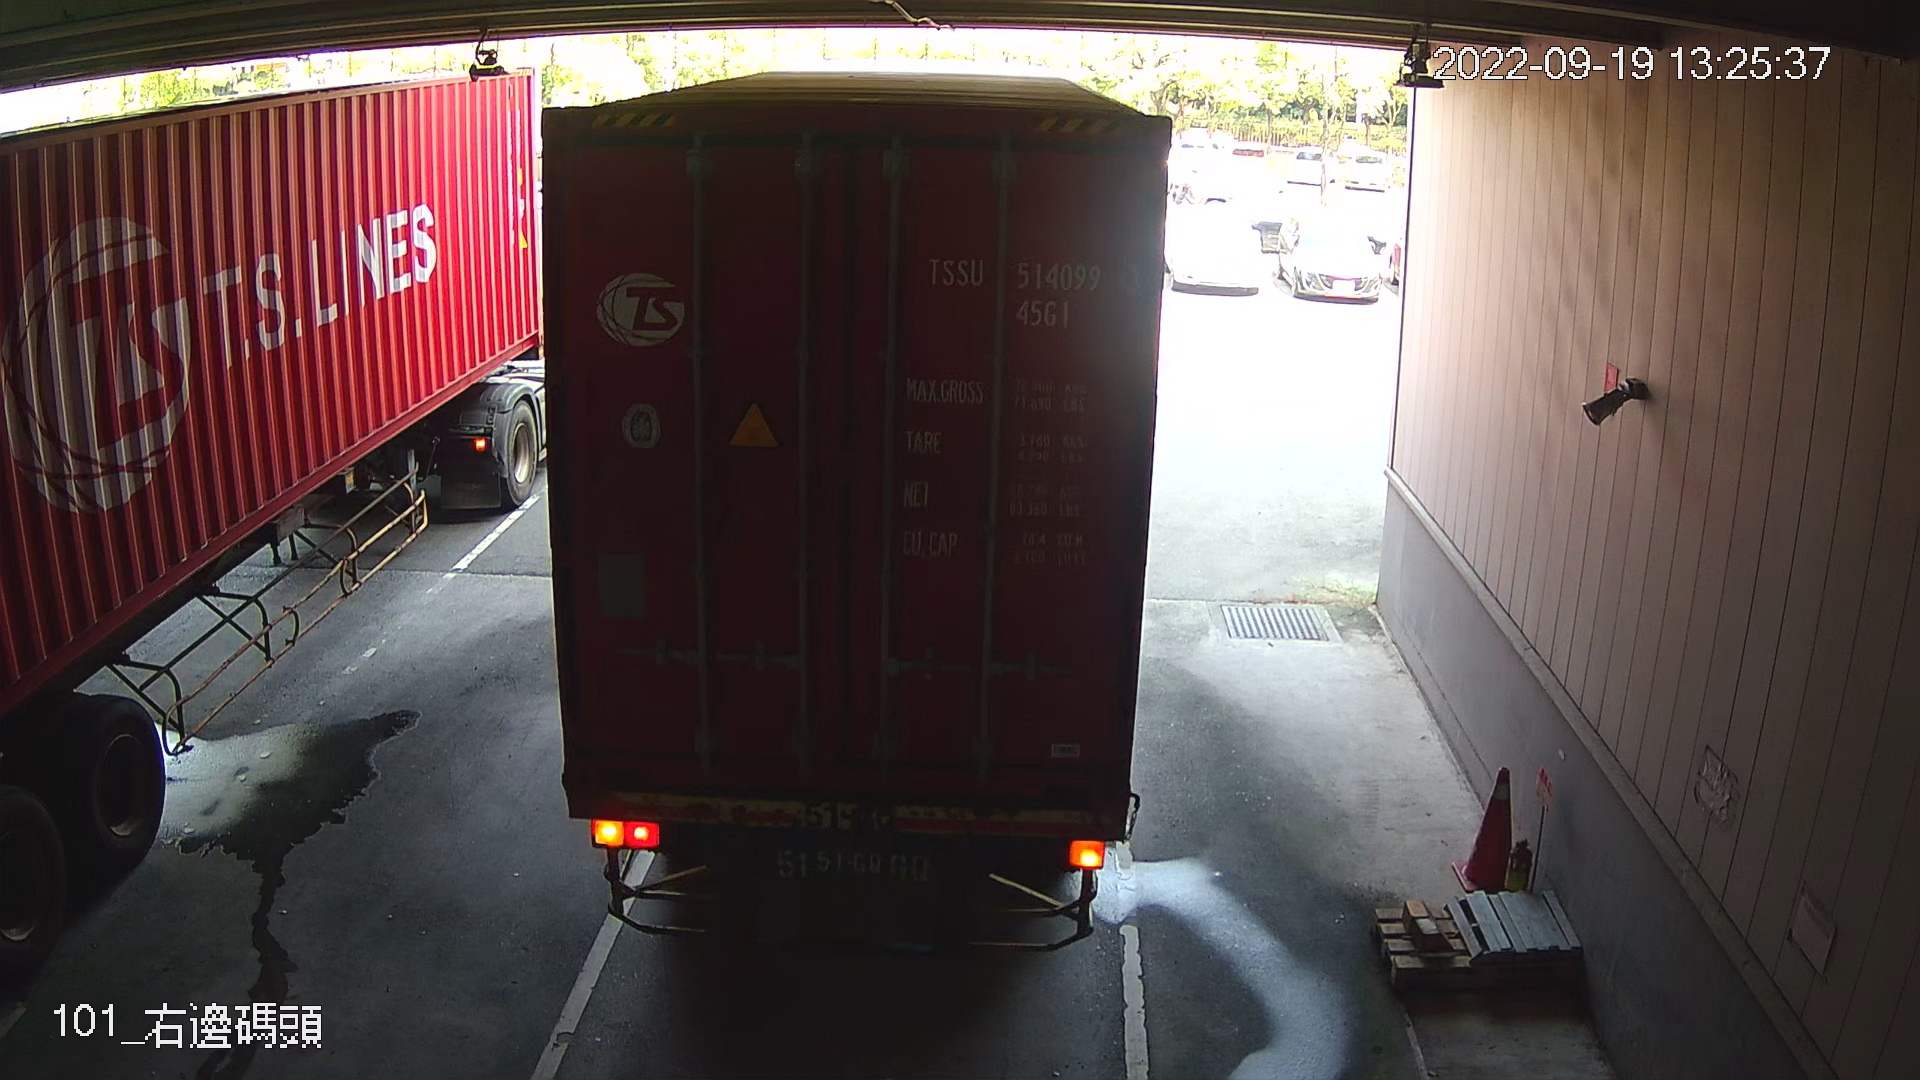container: (913, 245, 1151, 342)
